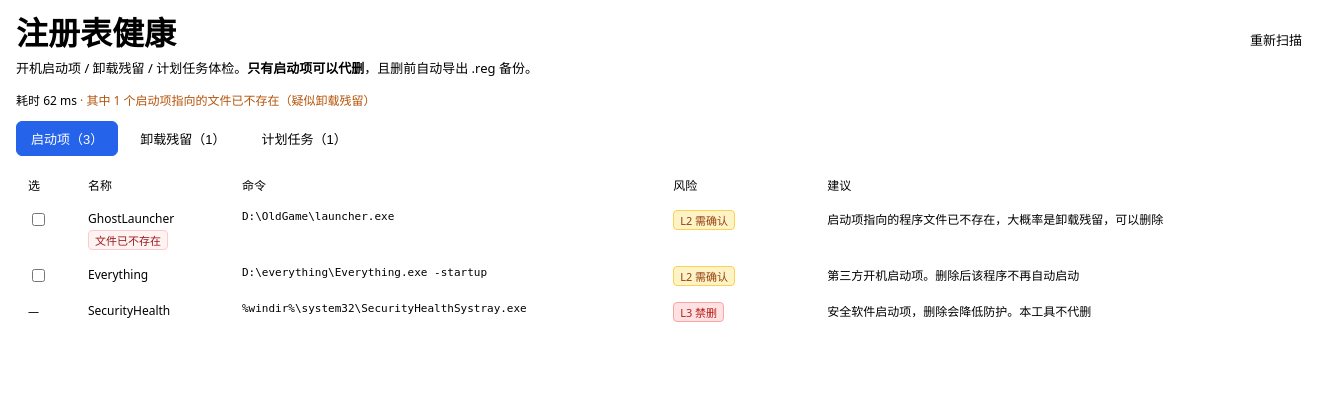
注册表健康中心 › 默认不勾选，勾选后出现「删除并备份」按钮
The width and height of the screenshot is (1319, 410).
Expected: the text "GhostLauncher" is shown, [88,210,174,227]
Expected: the button "删除并备份" is not shown
Click the checkbox named "选择 GhostLauncher": (38,220) [32,213,45,226]
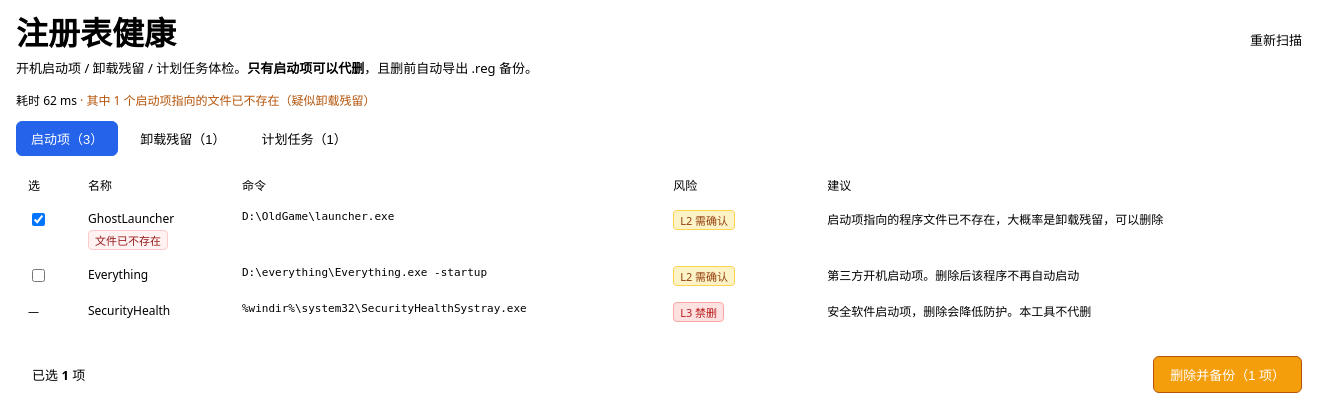
Now the button "删除并备份（1 项）" is shown, box [1153,356,1302,393]
